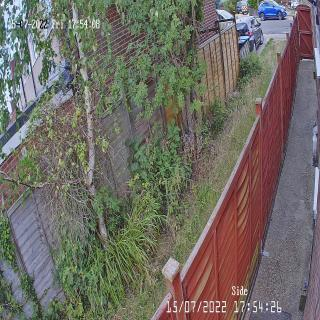car: (236, 16, 264, 56), (258, 0, 288, 20), (217, 9, 236, 23), (236, 1, 242, 15)
truck: (242, 1, 250, 14)
